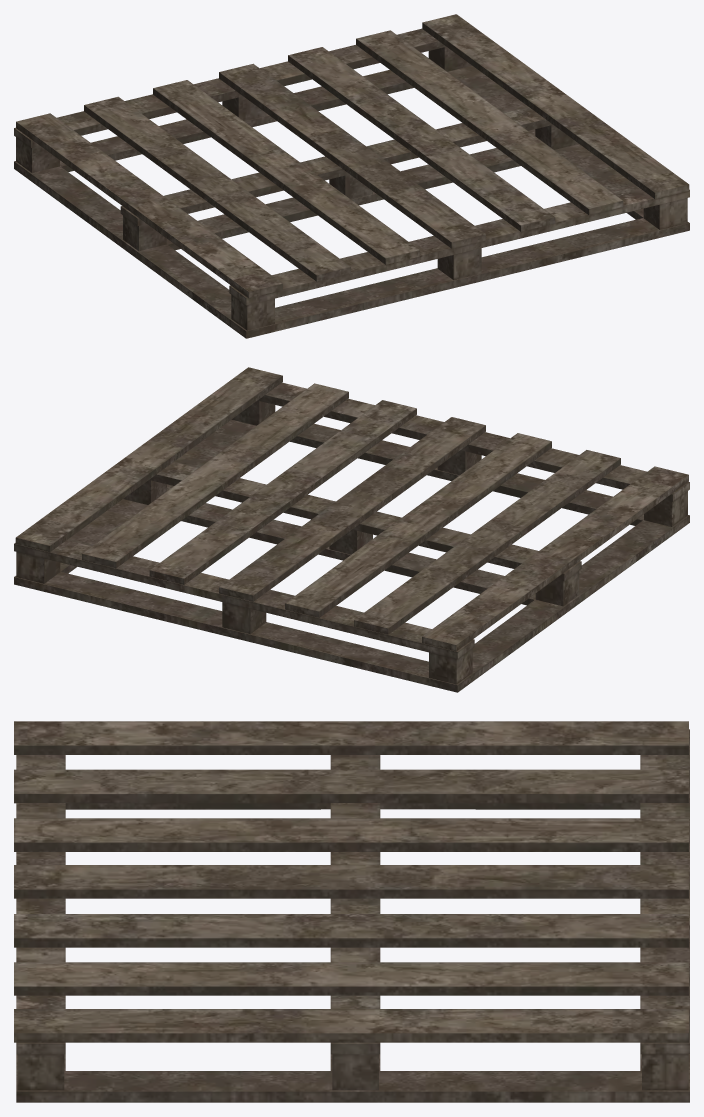
Rendered from pallet.glb.
3 views of the same model, one above another, from view 1: azimuth 30°, elevation 25°; view 2: azimuth 150°, elevation 25°; view 3: azimuth 270°, elevation 25° (orthographic). The views are drawn at different scales.
Parts seen in each view (by area): view 1: Wood_Pallet_Wood_pallet_0; view 2: Wood_Pallet_Wood_pallet_0; view 3: Wood_Pallet_Wood_pallet_0.
Part boxes in pixels (bbox=[...]): Wood_Pallet_Wood_pallet_0: bbox=[14, 14, 689, 338]; Wood_Pallet_Wood_pallet_0: bbox=[14, 367, 689, 692]; Wood_Pallet_Wood_pallet_0: bbox=[14, 721, 689, 1102].
Size of the model in its own units: 1.64 by 0.1658 by 1.49.
Materials: 1 (1 with a texture image).
